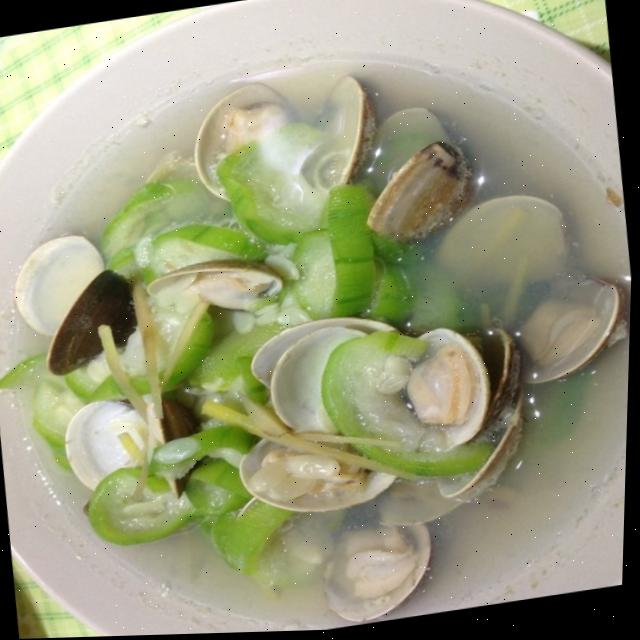Wet: (0, 30, 639, 640)
